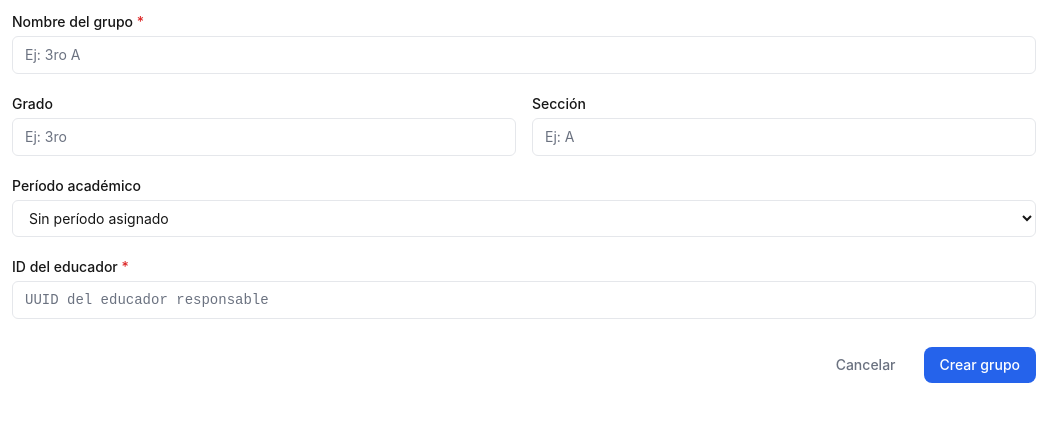
Test: GrupoForm › debería mostrar error cuando educadorId está vacío al enviar
In the field labelled "Nombre del grupo *": (524, 55) [12,36,1036,74], type "3ro A"
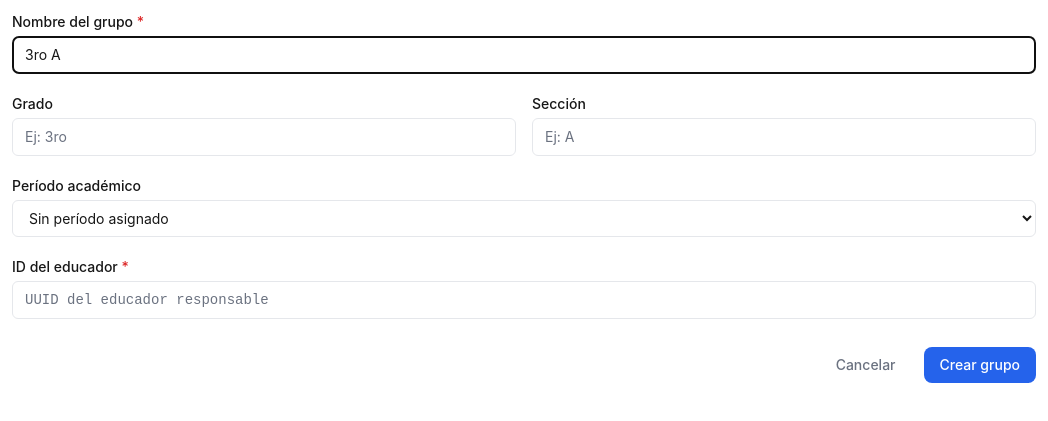
Click the button "Crear grupo": (980, 365) [924,347,1036,383]
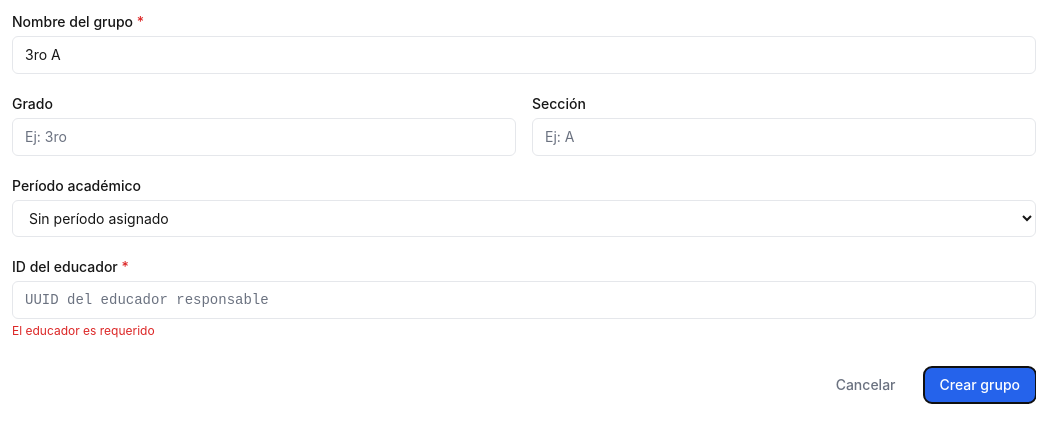
Expected: the text "El educador es requerido" is shown, [12,323,155,338]
